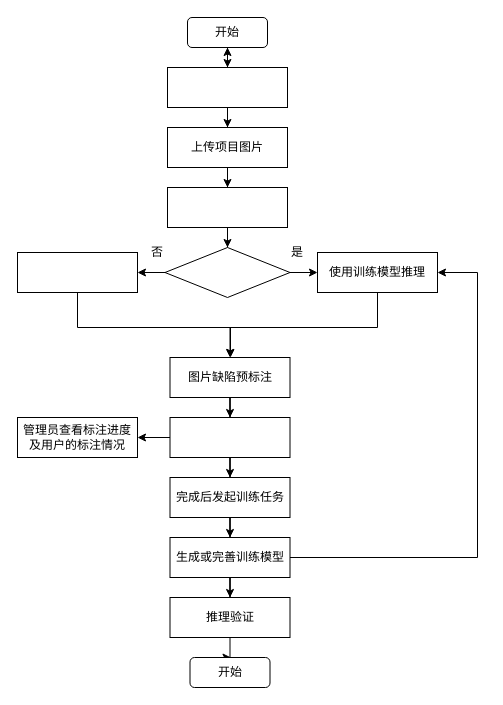
Image size: 503x705. Some labels were removed from this diagram. The box of each missing label's shape, as (x1, y1, x2, y2) in pixels:
使用预训练模型推理: (16, 252, 138, 292)
创建标注任务，指派给标注员: (166, 186, 288, 228)
创建项目文件夹: (166, 66, 288, 108)
是否有匹配的模型: (164, 246, 290, 298)
用户在线协作标注: (169, 416, 290, 458)
